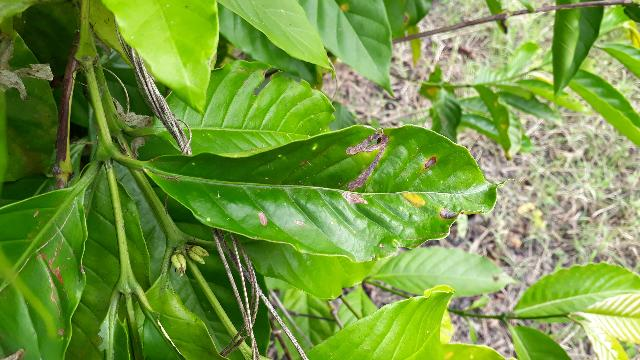rust_level_1: (146, 127, 503, 262)
